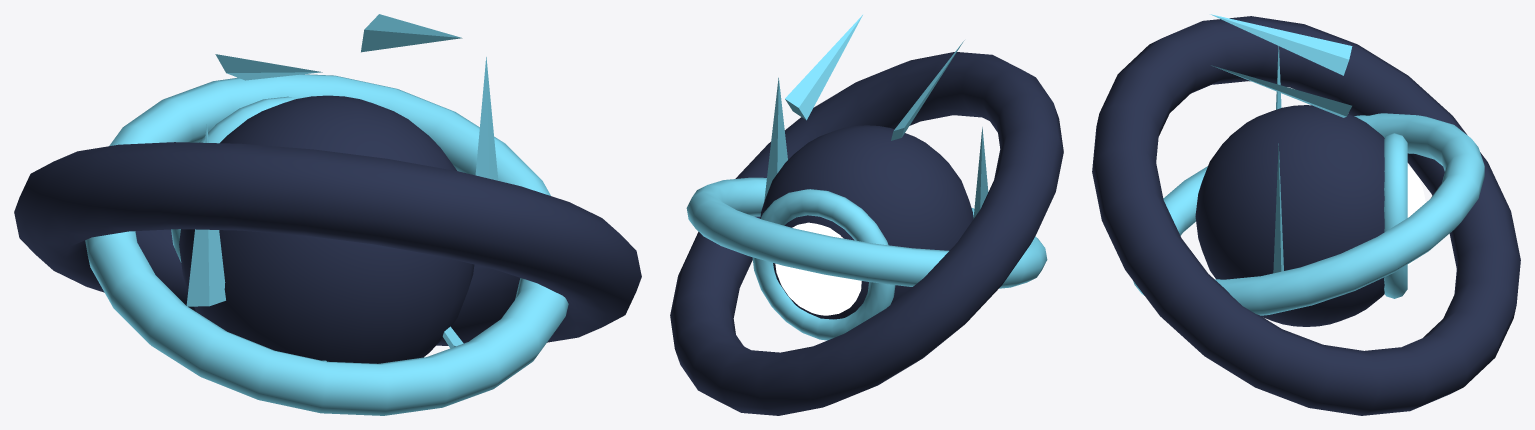
The model's file is enemy_titan_sentinel.glb.
3 views of the same model, side by side, from view 1: azimuth 30°, elevation 25°; view 2: azimuth 150°, elevation 25°; view 3: azimuth 270°, elevation 25° (orthographic). The views are drawn at different scales.
Visible parts, largest first — view 1: Ring2, Ring1, Torso, Fin3, Fin1, Fin0, Lid, Fin2; view 2: Ring2, Torso, Ring1, Lid, Core, Fin1, Fin0, Fin2, Fin3; view 3: Ring2, Torso, Ring1, Lid, Fin2, Fin1, Fin0, Core.
Part boxes in pixels (x1=…): Ring2: x1=14, y1=142, x2=641, y2=345; Ring1: x1=85, y1=74, x2=568, y2=415; Torso: x1=179, y1=95, x2=474, y2=363; Fin3: x1=186, y1=124, x2=225, y2=306; Fin1: x1=361, y1=14, x2=462, y2=52; Fin0: x1=475, y1=57, x2=498, y2=180; Lid: x1=171, y1=96, x2=299, y2=262; Fin2: x1=215, y1=54, x2=322, y2=80; Ring2: x1=670, y1=52, x2=1063, y2=415; Torso: x1=760, y1=125, x2=973, y2=319; Ring1: x1=686, y1=177, x2=1047, y2=288; Lid: x1=752, y1=189, x2=895, y2=340; Core: x1=775, y1=222, x2=861, y2=315; Fin1: x1=785, y1=15, x2=862, y2=120; Fin0: x1=764, y1=77, x2=787, y2=200; Fin2: x1=891, y1=40, x2=964, y2=140; Fin3: x1=973, y1=127, x2=988, y2=218; Ring2: x1=1092, y1=16, x2=1520, y2=415; Torso: x1=1195, y1=105, x2=1384, y2=326; Ring1: x1=1133, y1=113, x2=1484, y2=315; Lid: x1=1384, y1=133, x2=1407, y2=298; Fin2: x1=1210, y1=14, x2=1352, y2=75; Fin1: x1=1211, y1=65, x2=1351, y2=117; Fin0: x1=1273, y1=143, x2=1283, y2=273; Core: x1=1407, y1=166, x2=1425, y2=265.
Bounding box in the file's own units: 4.74 × 3.73 × 4.64.
